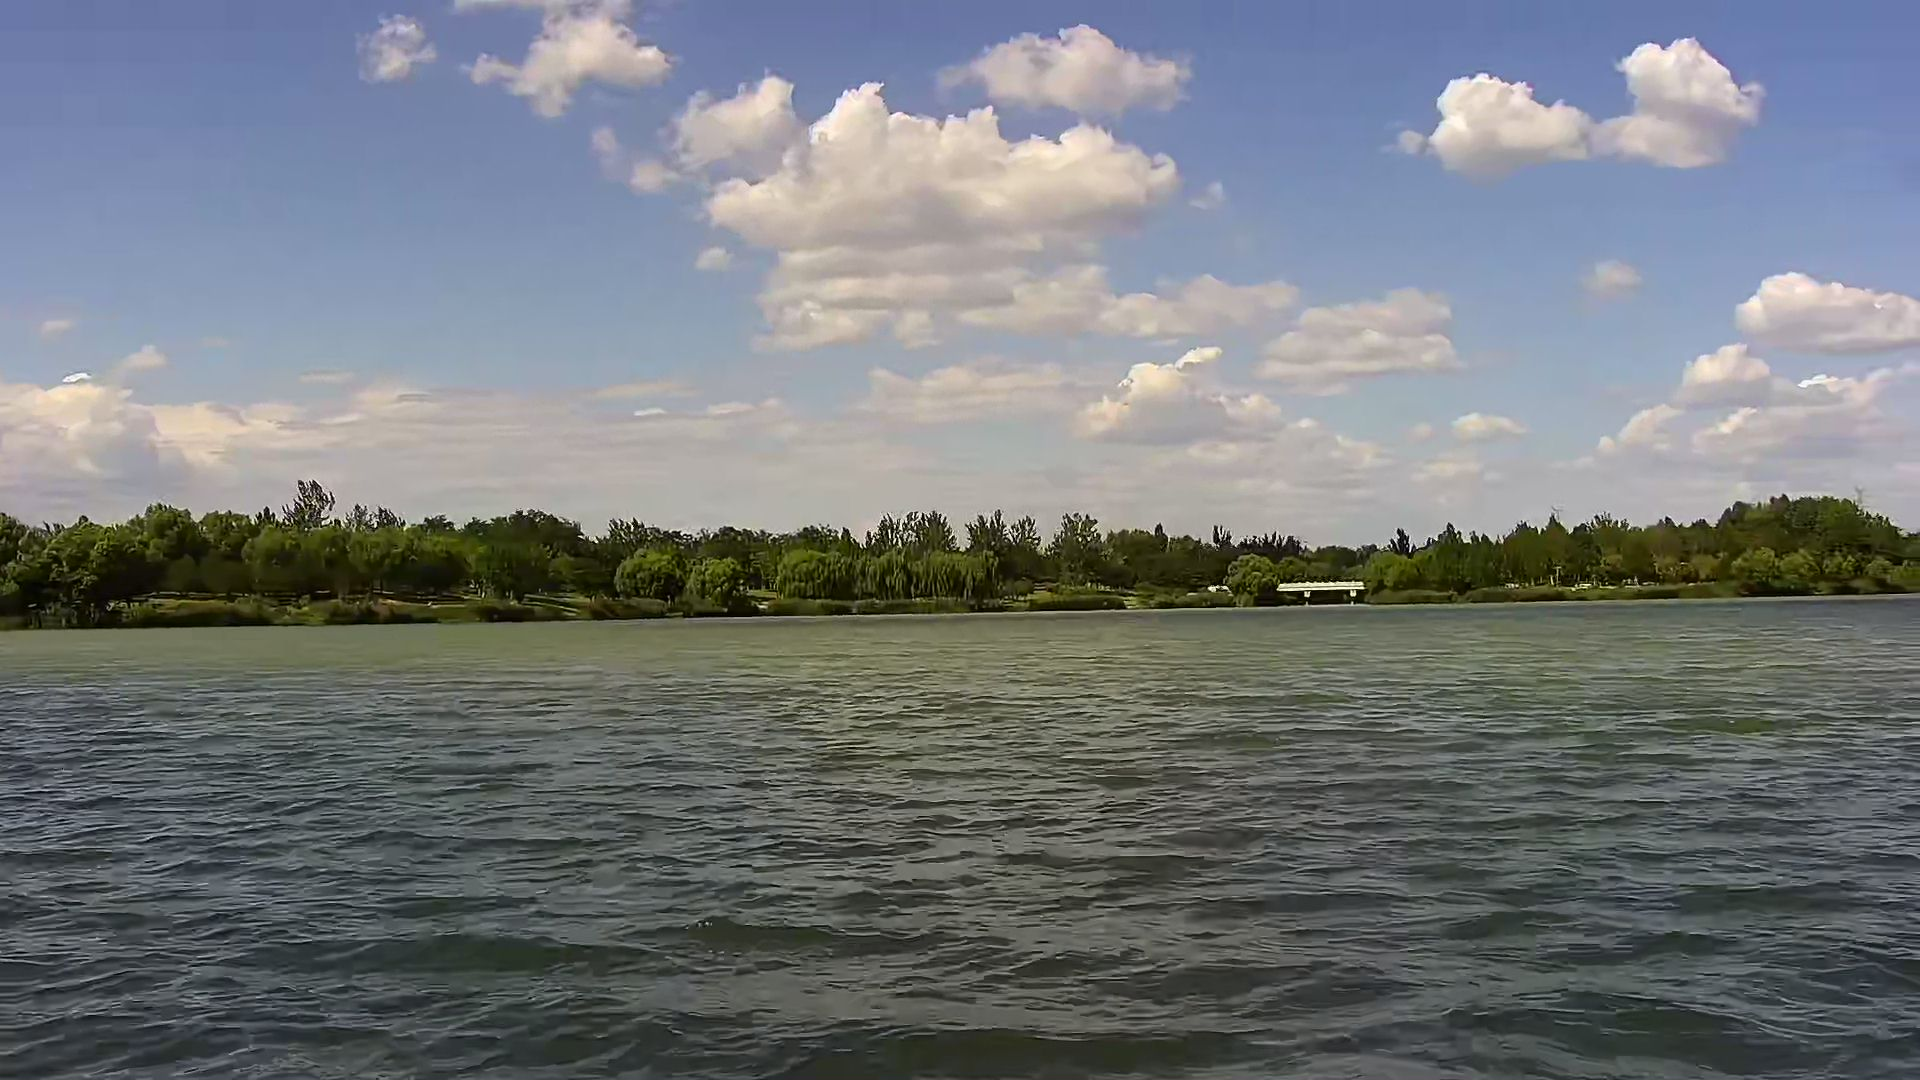bridge: (1274, 579, 1371, 611)
